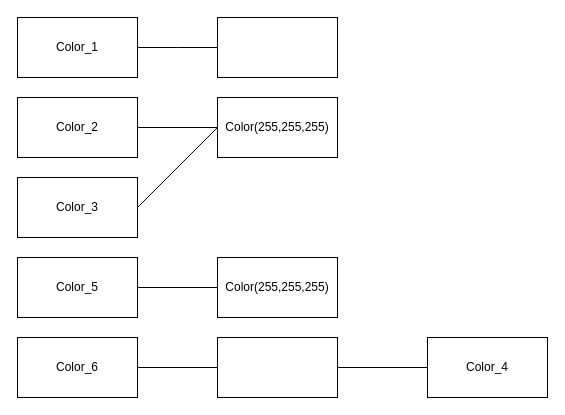
Image size: 565x415. Some labels were removed from this diagram. Each missing label, with the box of its shape:
Color(0,0,0): (216, 16, 338, 78)
Color(140,250,140 ): (216, 336, 338, 398)
